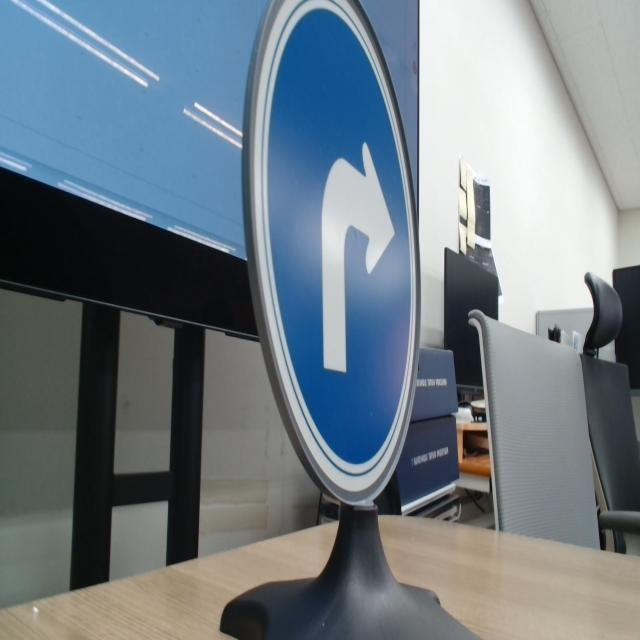right_dierection: (239, 0, 422, 521)
